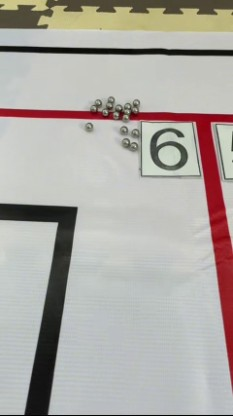ironball: (129, 125, 141, 138), (118, 135, 131, 147), (127, 139, 138, 152), (84, 120, 94, 132), (119, 113, 131, 123), (112, 102, 123, 112), (89, 102, 98, 114), (93, 96, 103, 106), (131, 98, 140, 109), (99, 105, 107, 117), (122, 100, 131, 110), (130, 104, 139, 114), (119, 125, 128, 135), (111, 110, 119, 121), (105, 94, 114, 103), (123, 107, 132, 116), (105, 100, 113, 110)
